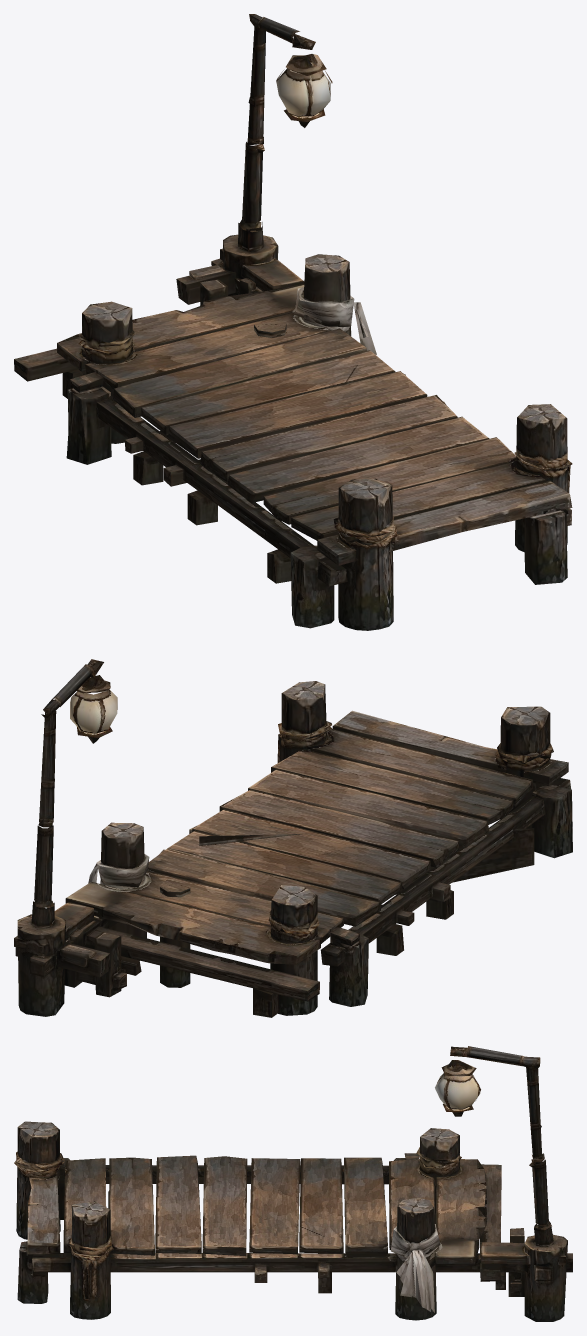
Rendered from act1_extras_v1_gentle_dock.glb.
3 renders of one model, top to bottom at view 1: azimuth 30°, elevation 25°; view 2: azimuth 150°, elevation 25°; view 3: azimuth 270°, elevation 25°, orthographic. The views are drawn at different scales.
Parts seen in each view (by area): view 1: A17_6_gentle_dock; view 2: A17_6_gentle_dock; view 3: A17_6_gentle_dock.
Part boxes in pixels (bbox=[...]): A17_6_gentle_dock: bbox=[14, 14, 572, 630]; A17_6_gentle_dock: bbox=[14, 659, 572, 1017]; A17_6_gentle_dock: bbox=[14, 1046, 572, 1321].
Size of the model in its own units: 0.4922 by 0.5522 by 0.9971.
1 material, 1 textured.
